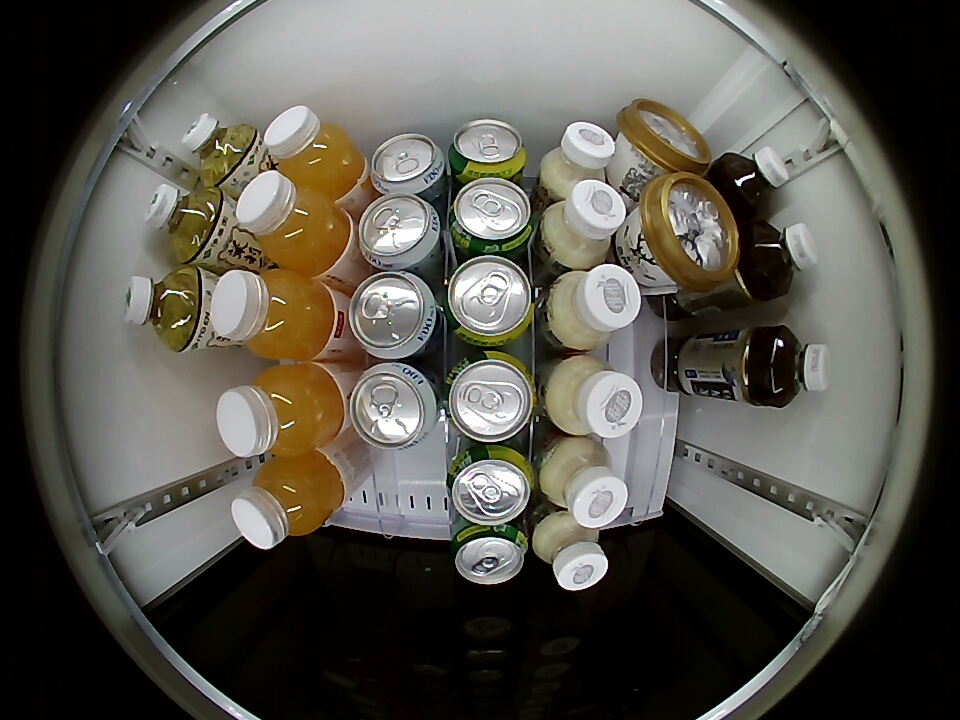baicha: (123, 267, 205, 352), (145, 183, 227, 262), (182, 114, 260, 187)
lujiaoxiang: (637, 172, 740, 292), (617, 99, 711, 176)
rusuanjunqishui: (348, 270, 439, 360), (348, 361, 439, 451), (357, 193, 442, 270), (370, 132, 446, 196)
weic: (235, 171, 353, 276), (216, 362, 345, 457), (209, 268, 336, 361), (231, 451, 344, 549), (263, 106, 367, 200)
weiweidounai: (549, 263, 643, 351), (547, 355, 644, 440), (540, 438, 629, 528), (541, 179, 628, 268), (531, 512, 607, 591), (540, 120, 616, 197)
wulongcha: (758, 325, 832, 408), (746, 221, 818, 298), (719, 146, 790, 214)
xuebi2: (443, 254, 535, 348), (444, 350, 536, 442), (446, 445, 534, 524), (448, 178, 534, 255), (447, 118, 527, 180), (451, 522, 529, 584)
